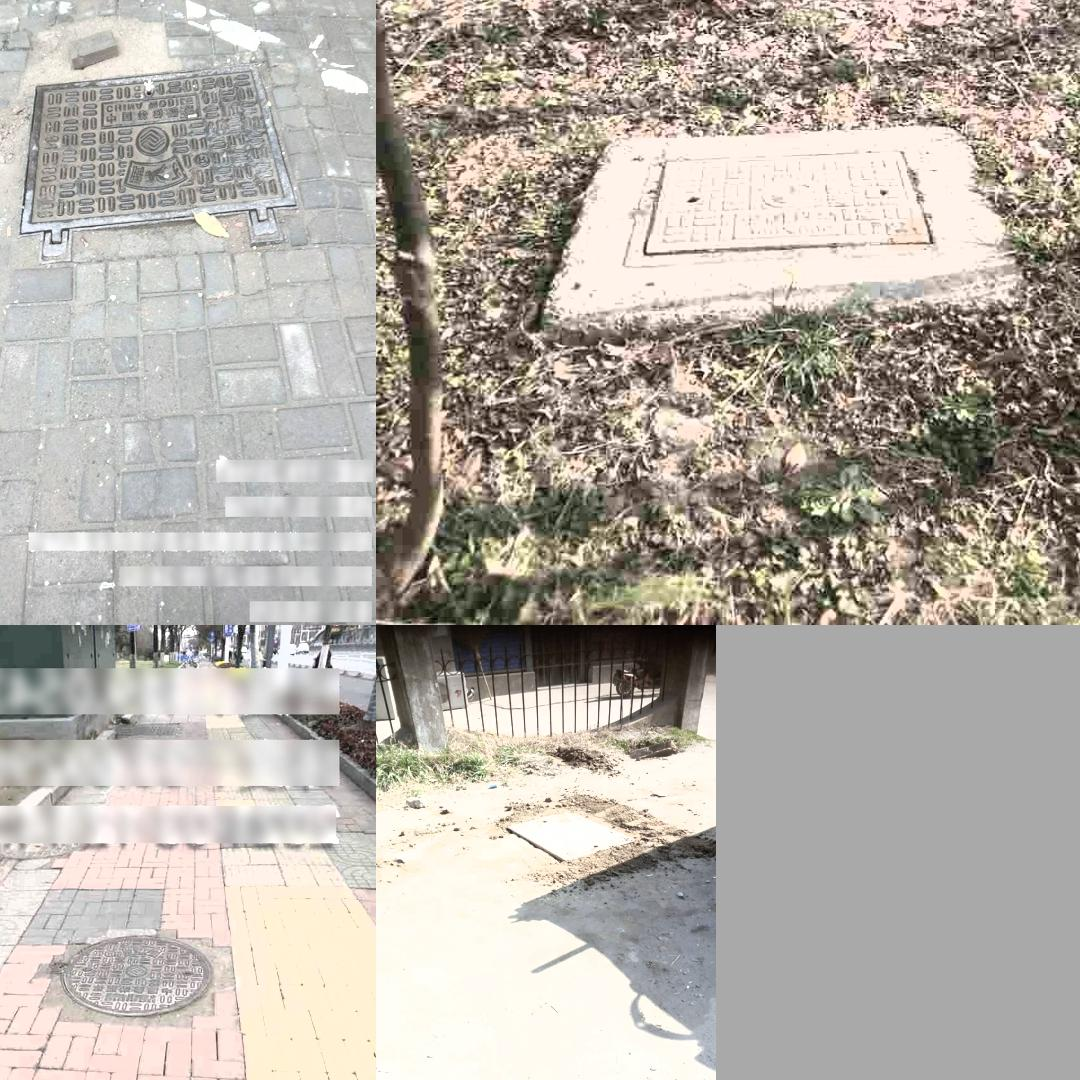good: (26, 58, 272, 240), (623, 141, 947, 264), (57, 929, 215, 1014), (506, 811, 634, 859)
